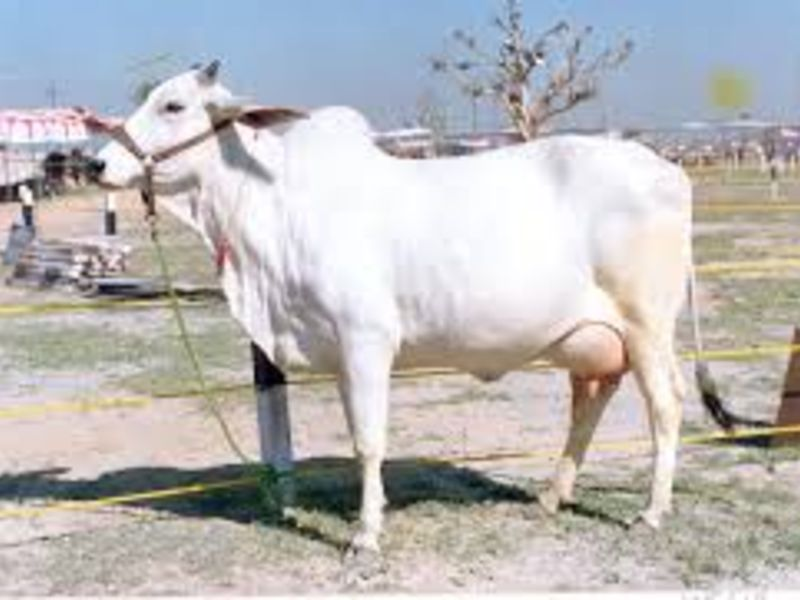cow: (84, 54, 746, 567)
